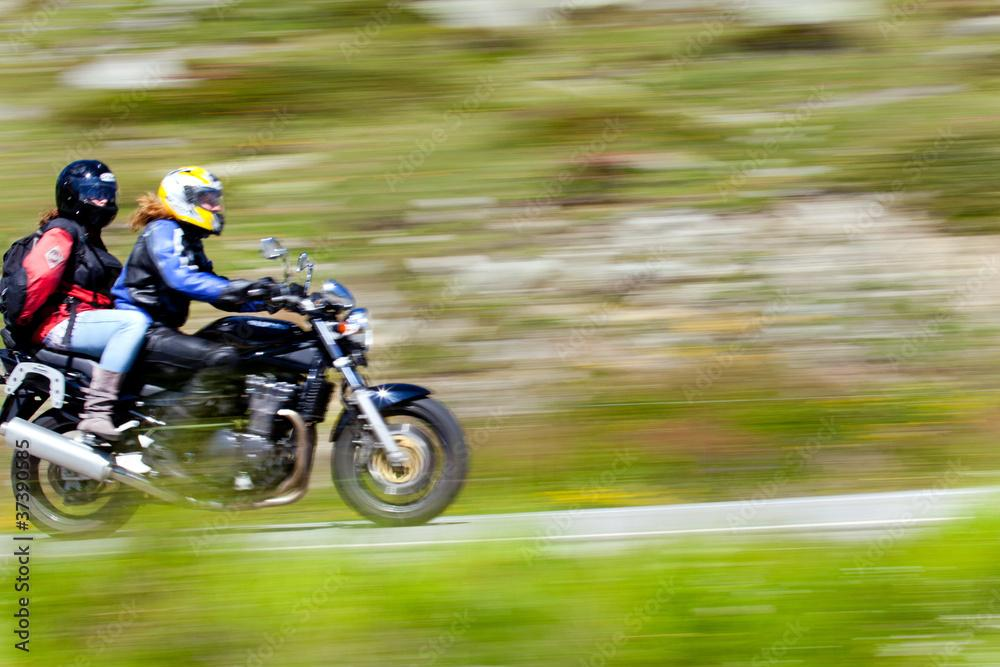helmet: (156, 164, 226, 240), (55, 158, 119, 230)
